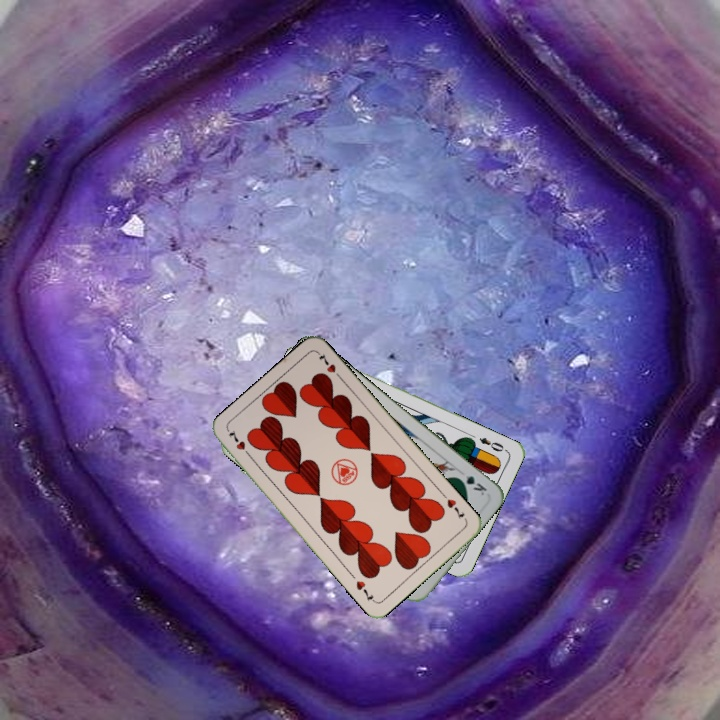EO: (475, 433, 509, 454)
GK: (452, 471, 489, 499)
H7: (224, 426, 255, 460), (443, 495, 467, 522)
